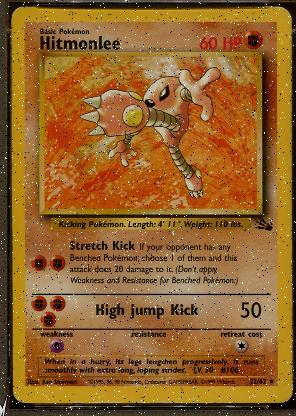Card: (8, 5, 294, 405)
Corner Wear: (275, 383, 291, 403), (12, 392, 29, 404)
Edge Wear: (69, 400, 126, 404), (288, 84, 291, 152), (289, 306, 291, 386), (288, 176, 290, 232), (132, 400, 184, 402), (288, 36, 290, 82), (11, 218, 13, 252), (211, 401, 240, 403), (190, 401, 205, 403)
